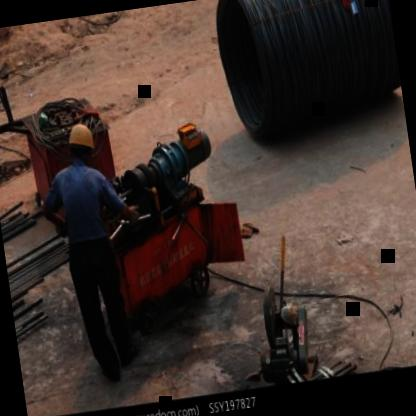helmet: (63, 120, 100, 166)
